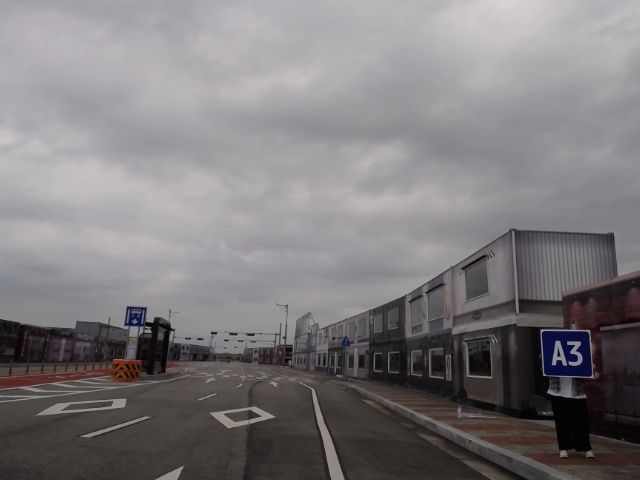delivery_a3: (541, 330, 593, 377)
